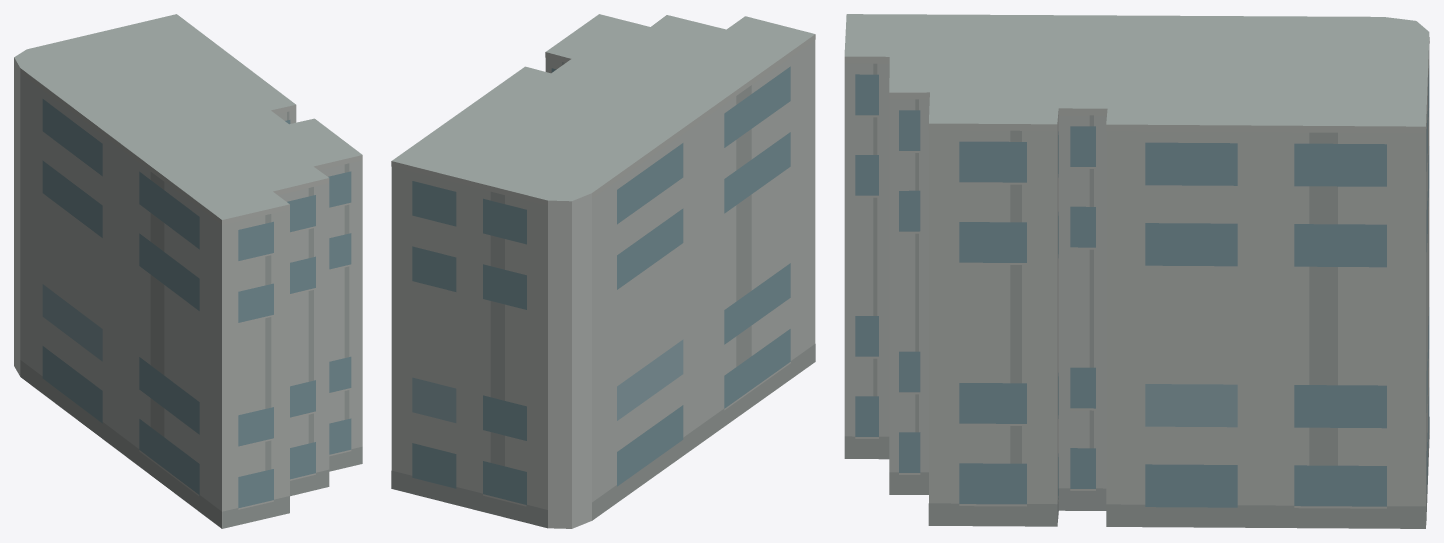
Rendered from survey-upis-32941247.glb.
The picture shows the model from 3 angles, left to right: view 1: azimuth 30°, elevation 25°; view 2: azimuth 150°, elevation 25°; view 3: azimuth 270°, elevation 25°; orthographic projection. The views are drawn at different scales.
Parts seen in each view (by area): view 1: survey-upis-32941247.tmp; view 2: survey-upis-32941247.tmp; view 3: survey-upis-32941247.tmp.
Boxes of the visible parts, x1=… form: survey-upis-32941247.tmp: x1=14, y1=14, x2=362, y2=528; survey-upis-32941247.tmp: x1=391, y1=14, x2=815, y2=528; survey-upis-32941247.tmp: x1=844, y1=14, x2=1429, y2=528.
Bounding box in the file's own units: 8.71 × 14.5 × 19.12.
